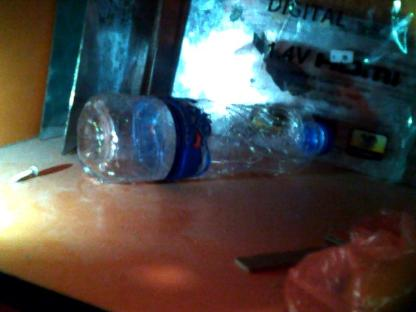Plastic Bottle: (76, 93, 322, 186)
